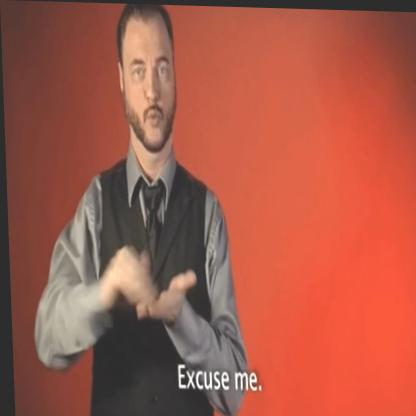ExcuseMe: (23, 1, 247, 416)
